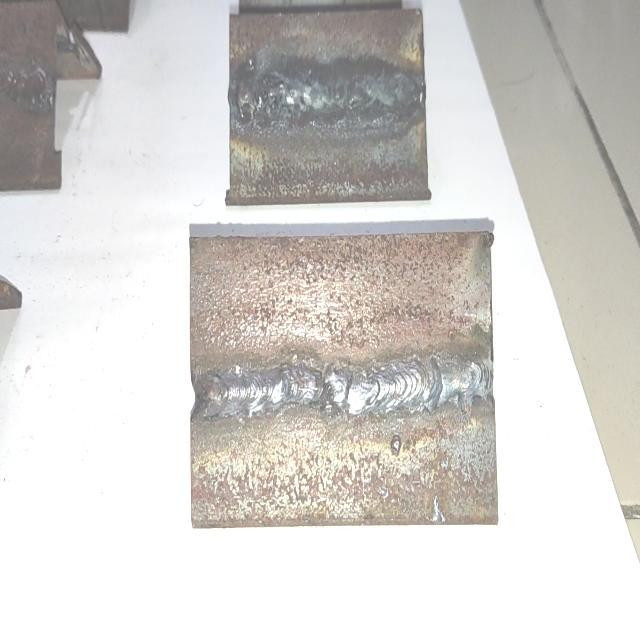Defect: (234, 61, 289, 128), (306, 356, 347, 421)
Welding Line: (200, 358, 490, 420), (232, 67, 424, 121)
Workpiece: (188, 226, 499, 532), (227, 6, 430, 204)
